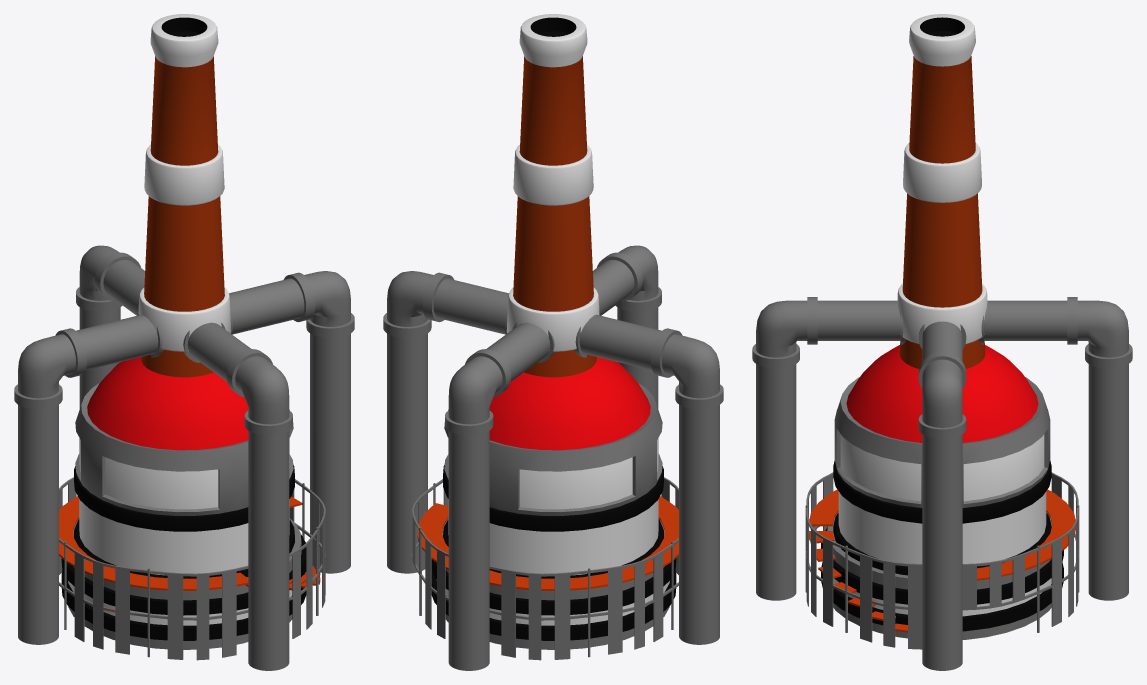
The model's file is FábricaParte2.fbx.
The picture shows the model from 3 angles, left to right: view 1: azimuth 30°, elevation 25°; view 2: azimuth 150°, elevation 25°; view 3: azimuth 270°, elevation 25°; orthographic projection.
Parts seen in each view (by area): view 1: Misturador, Chamine, Container, GradesR; view 2: Misturador, Chamine, Container, GradesR; view 3: Misturador, Chamine, Container, GradesR.
Boxes of the visible parts, bbox=[...] form: Misturador: bbox=[14, 245, 354, 670]; Chamine: bbox=[138, 14, 231, 377]; Container: bbox=[74, 438, 294, 578]; GradesR: bbox=[59, 477, 325, 660]; Misturador: bbox=[383, 245, 723, 670]; Chamine: bbox=[506, 14, 599, 377]; Container: bbox=[443, 438, 663, 578]; GradesR: bbox=[412, 477, 678, 660]; Misturador: bbox=[752, 297, 1132, 670]; Chamine: bbox=[897, 14, 987, 368]; Container: bbox=[833, 434, 1051, 575]; GradesR: bbox=[805, 472, 1079, 649].
Bounding box in the file's own units: 1830 × 3001 × 1830.
